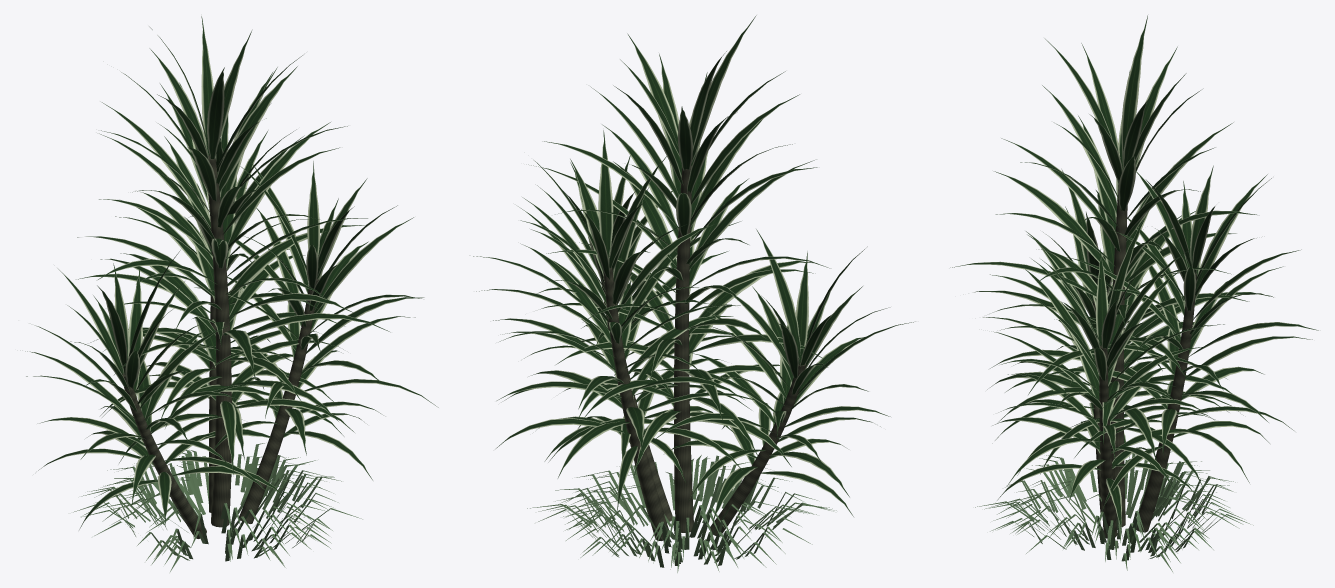
Rendered from planta_dracaena.glb.
3 renders of one model, left to right at view 1: azimuth 30°, elevation 25°; view 2: azimuth 150°, elevation 25°; view 3: azimuth 270°, elevation 25°, orthographic. The views are drawn at different scales.
Visible parts, largest first — view 1: Dracaena_Variegada; view 2: Dracaena_Variegada; view 3: Dracaena_Variegada.
Part boxes in pixels (box(x1,y1,x2,y2)): Dracaena_Variegada: box(25, 16, 438, 571); Dracaena_Variegada: box(473, 15, 915, 572); Dracaena_Variegada: box(950, 15, 1318, 571).
Size of the model in its own units: 1.24 by 1.56 by 1.09.
Materials: 3 (2 with a texture image).
